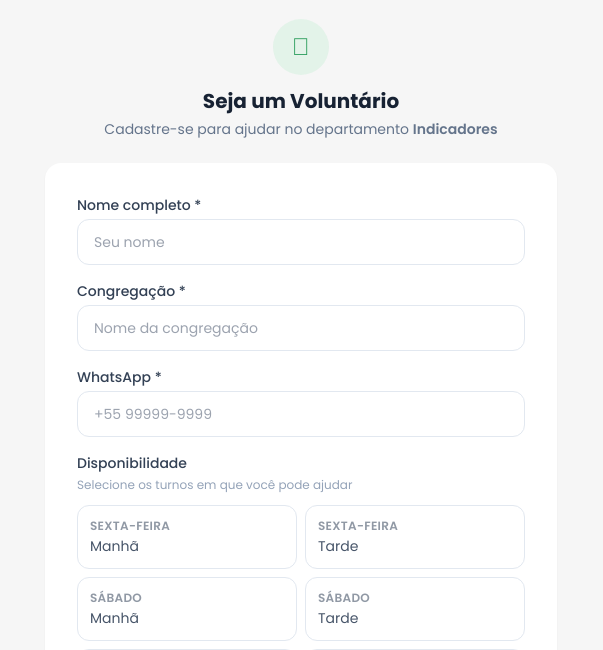
PublicCadastro › submits form and shows success screen
Type "João Silva" into the field with placeholder "Seu nome" at point(301, 242), box top-left (77, 219), bottom-right (525, 265)
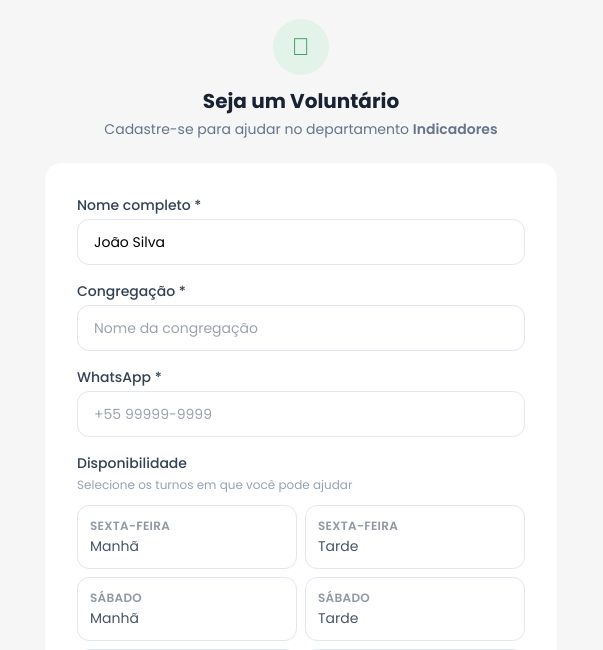
Type "Igreja Central" into the field with placeholder "Nome da congregação" at point(301, 328), box top-left (77, 305), bottom-right (525, 351)
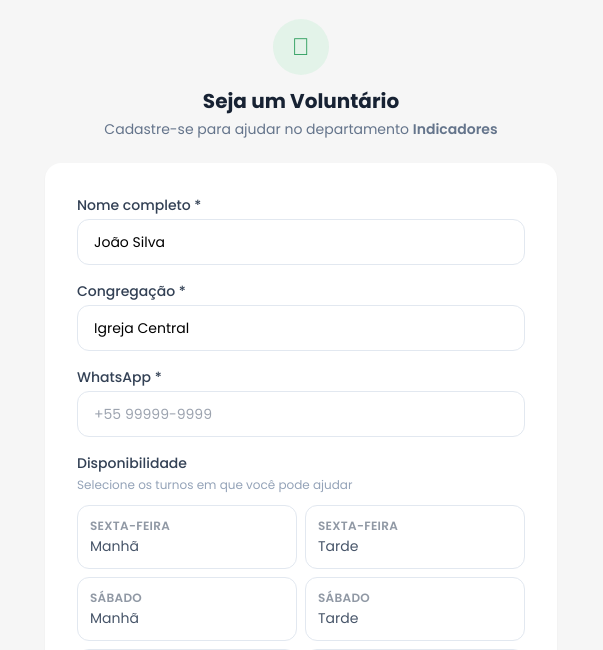
Type "+55119999888" into the field with placeholder "+55 99999-9999" at point(301, 414), box top-left (77, 391), bottom-right (525, 437)
(page scrolled)
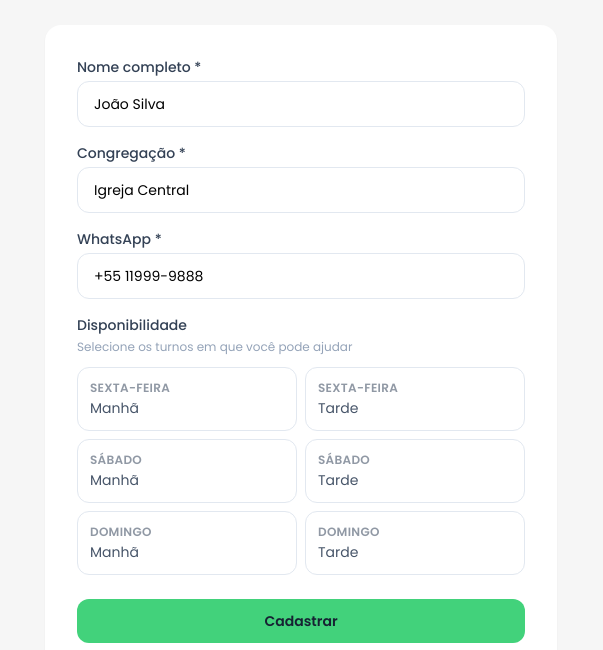
Click the button "Cadastrar" at point(301, 621), box top-left (77, 599), bottom-right (525, 643)
(page scrolled)
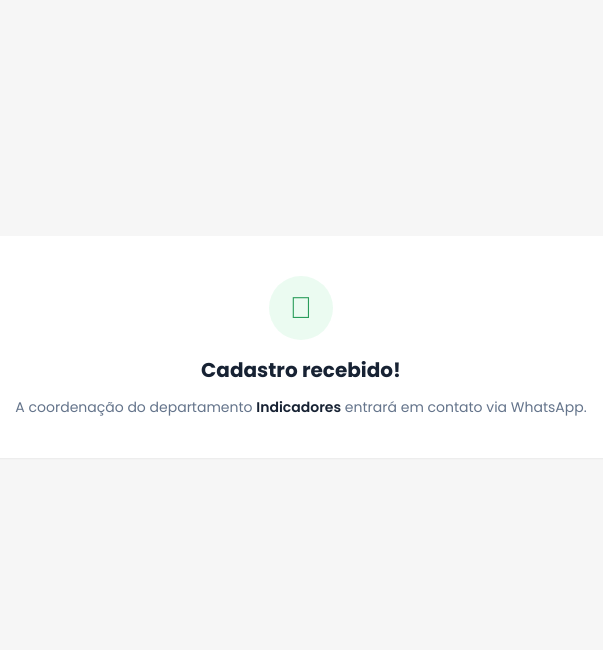
Expected: the text "Indicadores" is shown, top-left (256, 397), bottom-right (341, 417)
Result: the heading "Cadastro recebido!" is shown at top-left (201, 356), bottom-right (401, 384)
